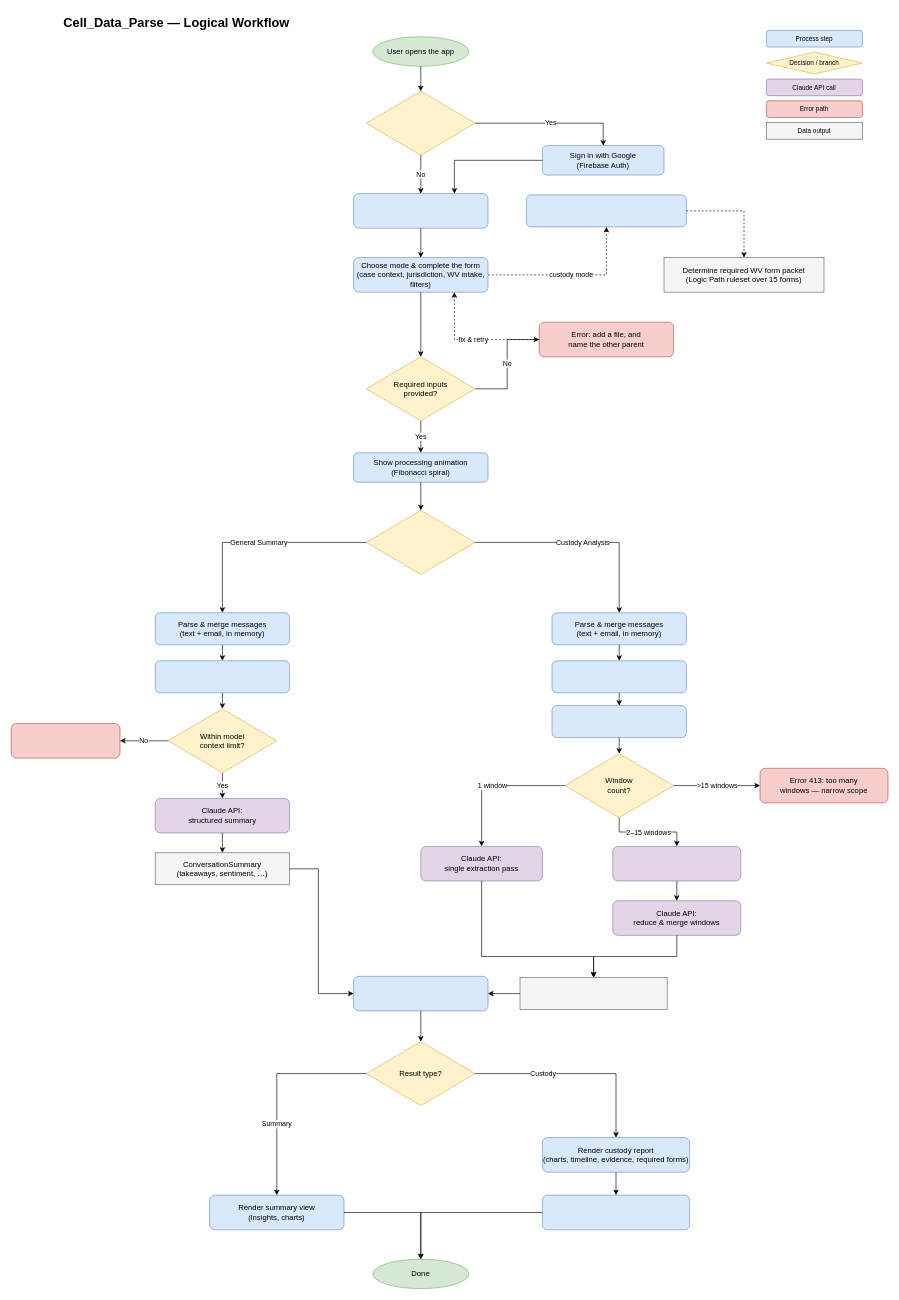
This 899x1300 diagram has some shape labels left out. Here are the shapes that lost their labels. From the top down, the box of each, then its label:
(366, 91, 475, 155): Firebase auth gate enabled?
(353, 193, 488, 228): Upload text and / or email files
(526, 194, 686, 227): Answer WV custody intake (7 case-profile logic questions)
(366, 510, 475, 574): Analysis mode?
(155, 660, 290, 693): Filter by date / contact / search terms
(551, 660, 686, 693): Filter by date / contact
(11, 723, 120, 758): Error 413: selection too large
(551, 705, 686, 738): Split into chronological time windows
(612, 846, 741, 881): Claude API: concurrent window extraction (×N)
(353, 976, 488, 1011): Return JSON result to the browser
(519, 977, 667, 1010): CustodyReport + breakdown + required forms + transcript
(542, 1195, 690, 1230): Download PDF report or Excel evidence workbook
